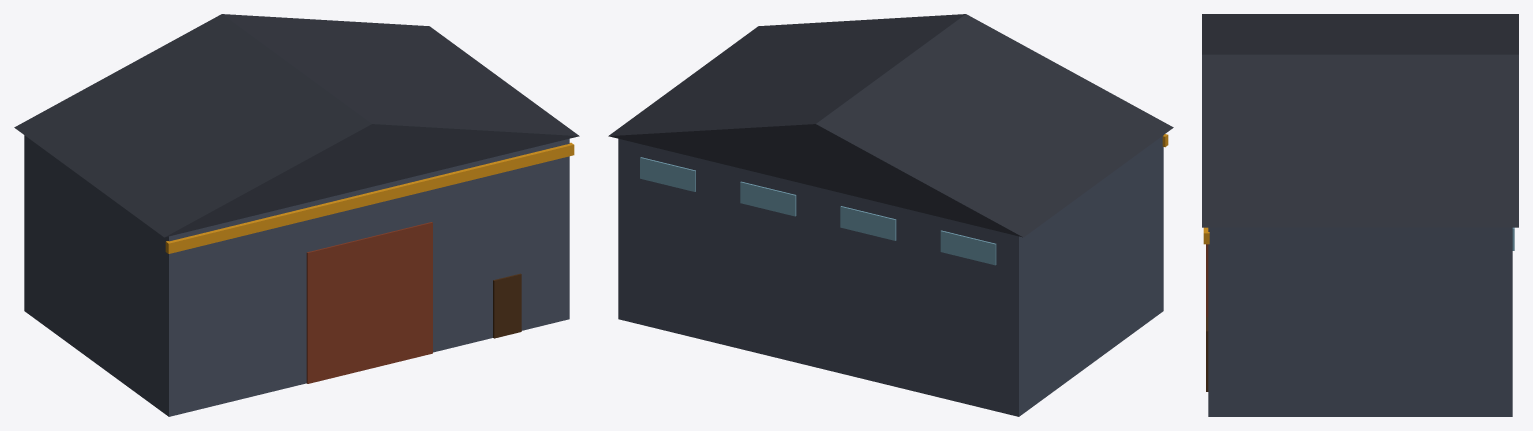
File: warehouse.glb
The picture shows the model from 3 angles, left to right: view 1: azimuth 30°, elevation 25°; view 2: azimuth 150°, elevation 25°; view 3: azimuth 270°, elevation 25°; orthographic projection. The views are drawn at different scales.
Parts seen in each view (by area): view 1: model; view 2: model; view 3: model.
Boxes of the visible parts, x1,y1,x2,y2 form: model: (14, 14, 579, 416); model: (608, 14, 1173, 416); model: (1202, 14, 1518, 416).
Size of the model in its own units: 16.6 by 9.4 by 10.4.
